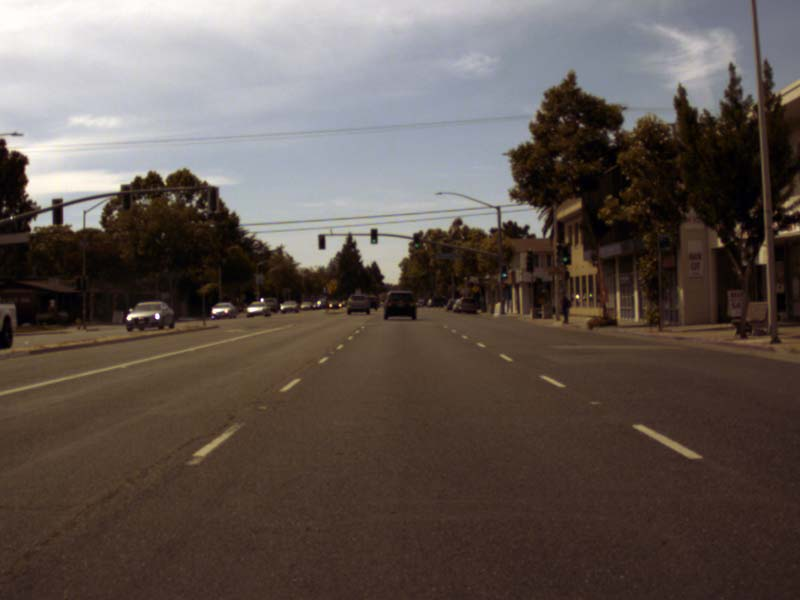Green: (561, 246, 569, 264), (370, 227, 377, 243), (413, 233, 420, 248), (501, 264, 507, 278)
